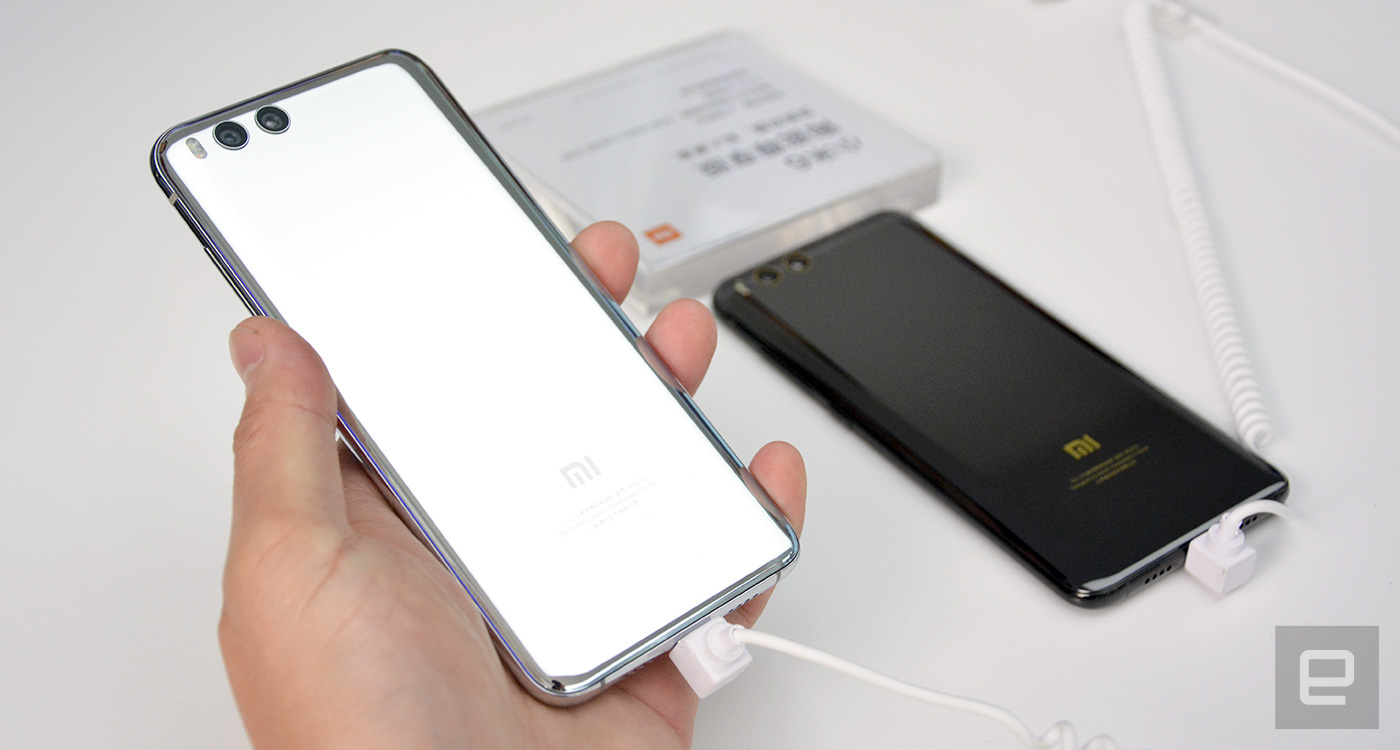smartphone: (150, 49, 800, 711), (712, 208, 1292, 610)
